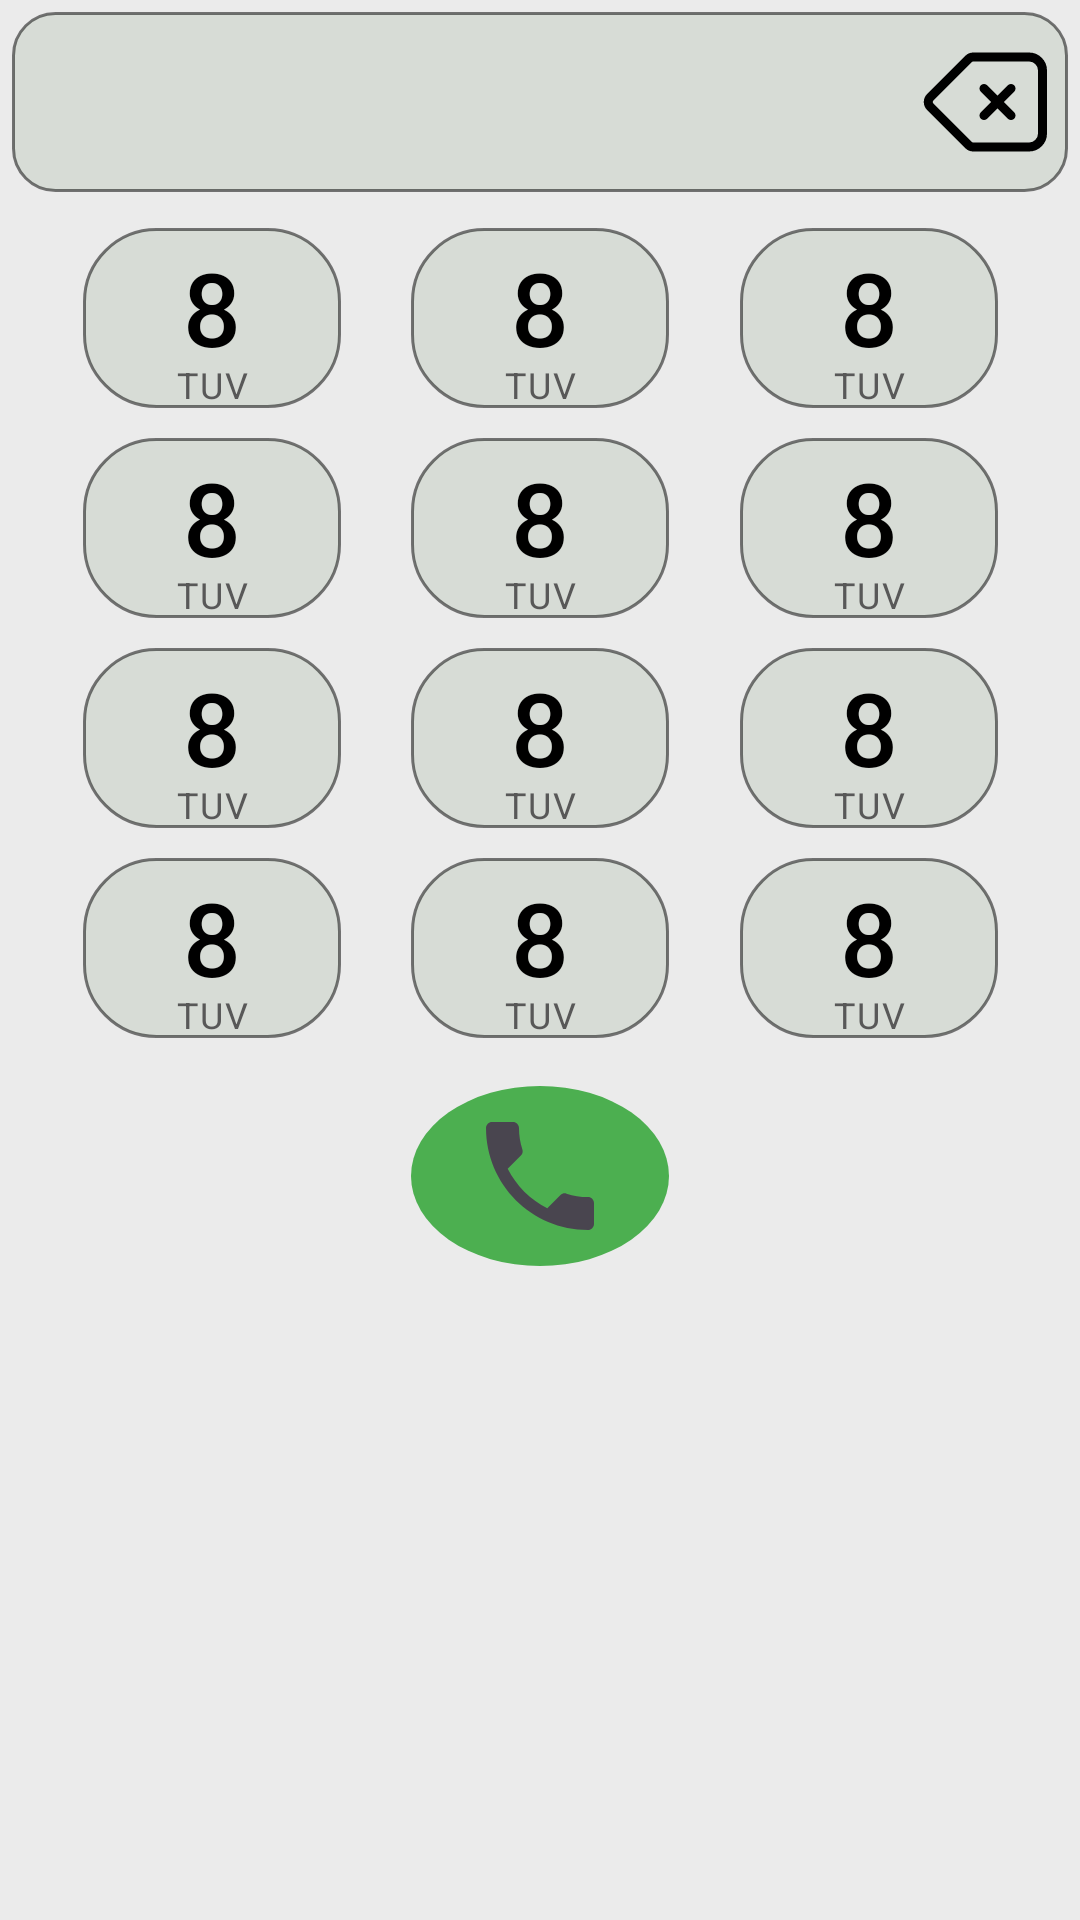

Icons on this 1080*1920 Android screen, each with its box as (x1, y1, x2, y2):
backspace: (923, 52, 1047, 152)
Call: (411, 1086, 669, 1266)
